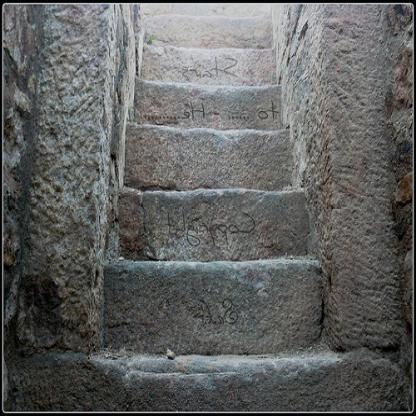stairs: (121, 123, 291, 361)
